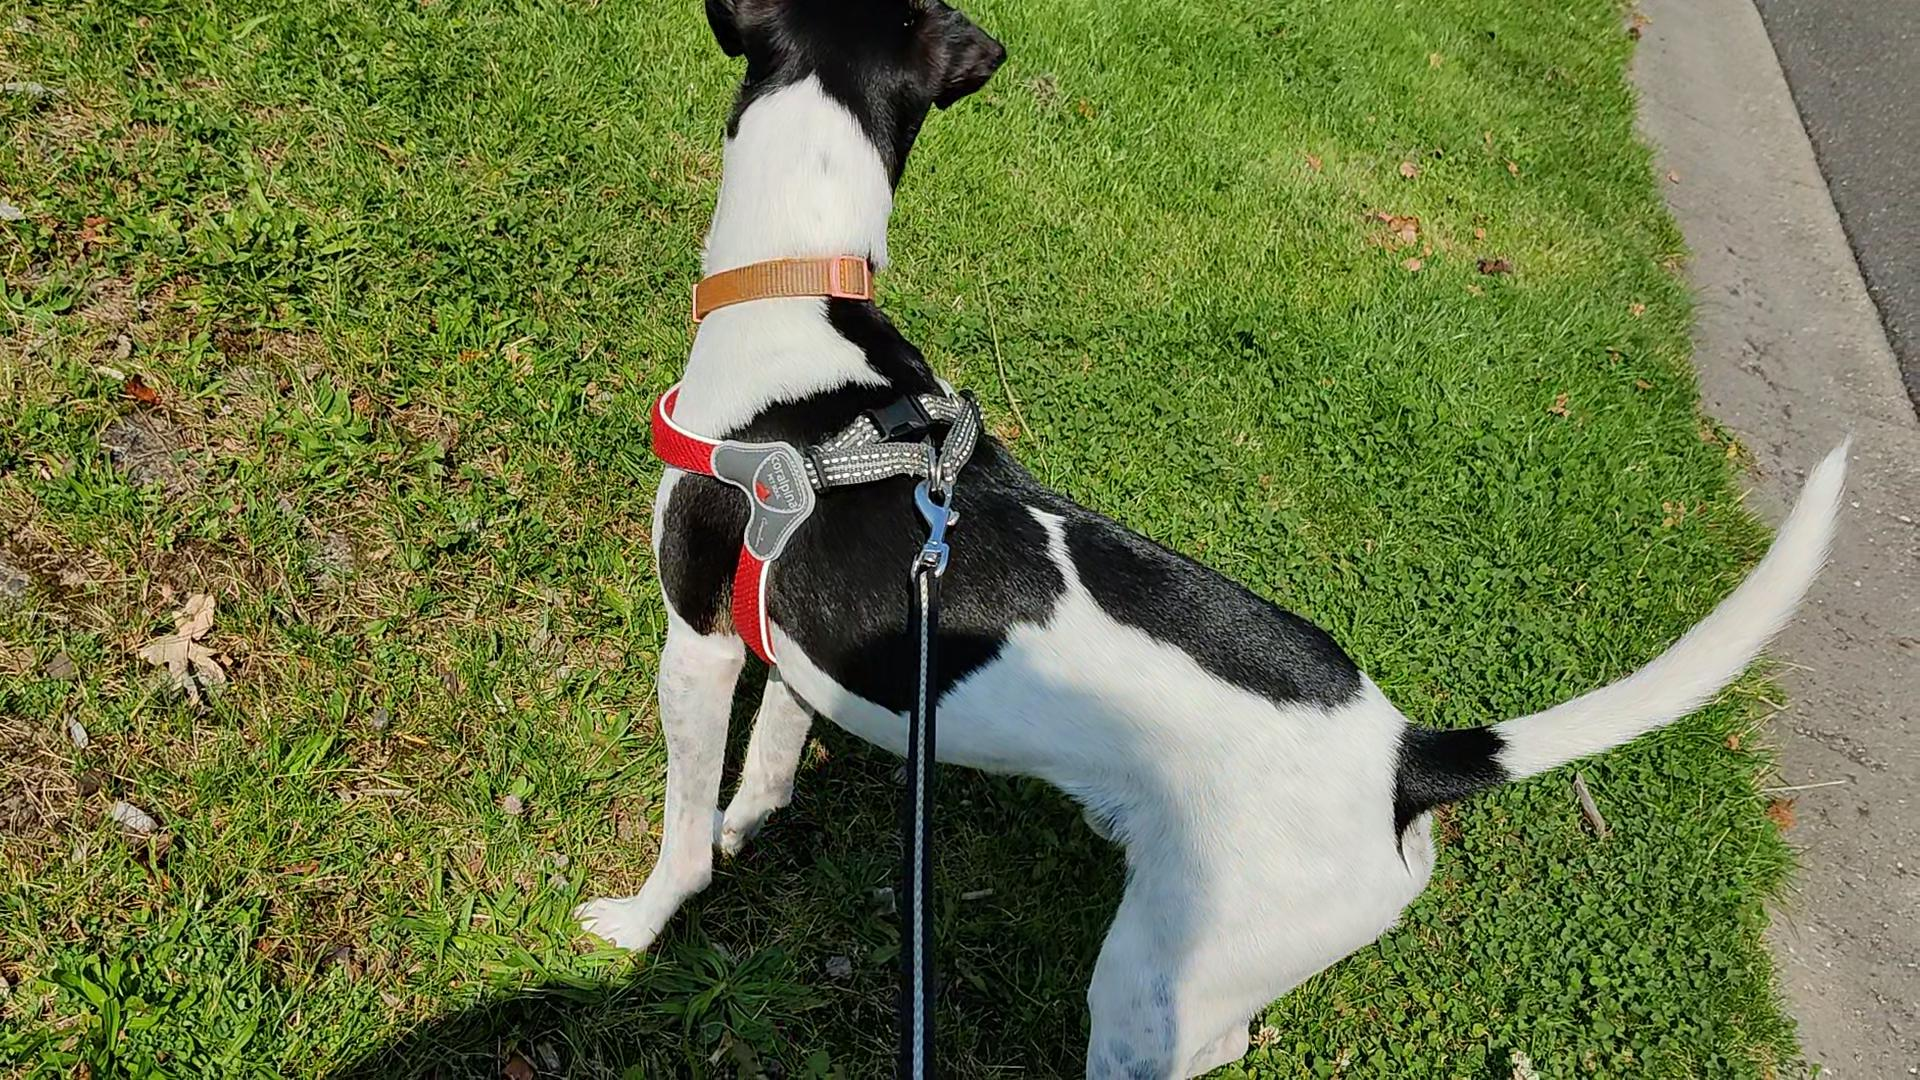Dog: (563, 0, 1851, 1079)
